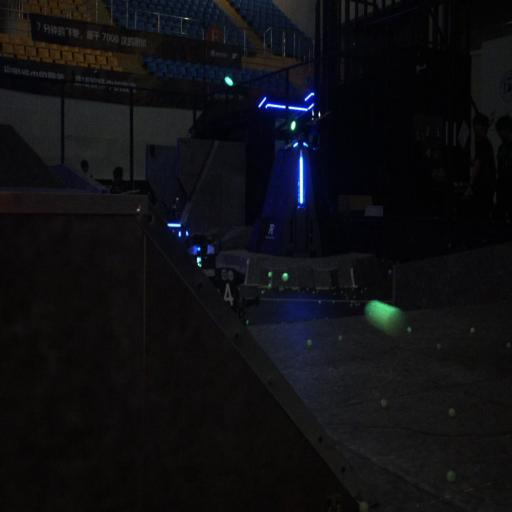target: (217, 273, 241, 311)
